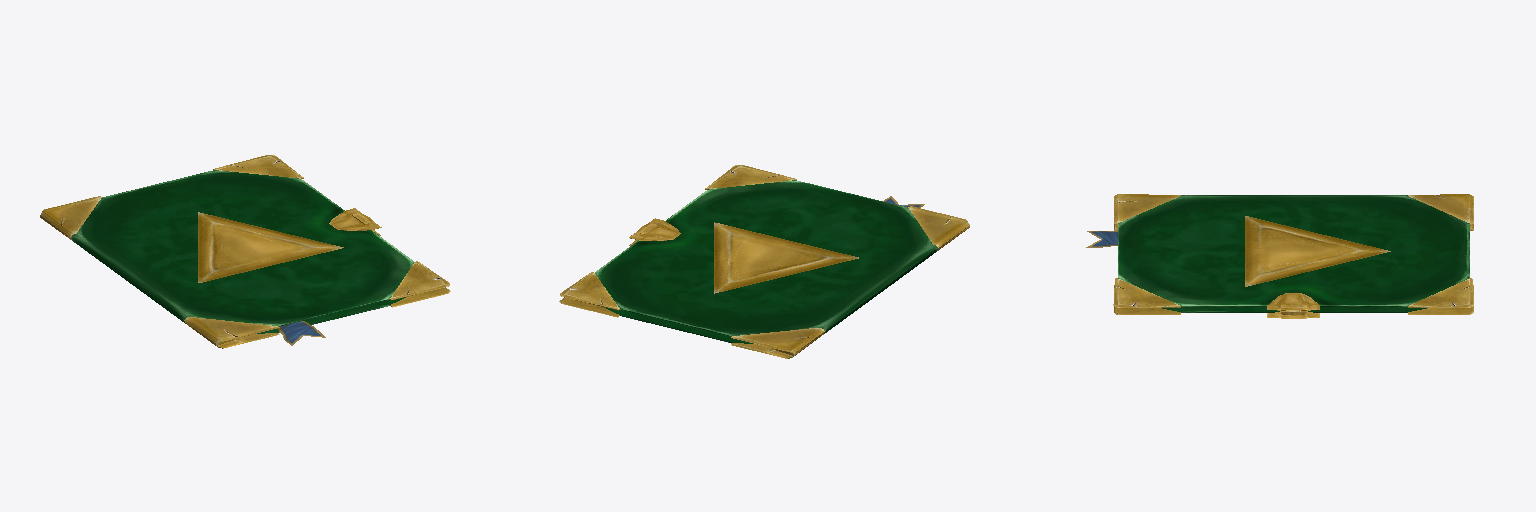
3 renders of one model, left to right at view 1: azimuth 30°, elevation 25°; view 2: azimuth 150°, elevation 25°; view 3: azimuth 270°, elevation 25°, orthographic.
Parts seen in each view (by area): view 1: magic-book-1_Cube.004; view 2: magic-book-1_Cube.004; view 3: magic-book-1_Cube.004.
Part boxes in pixels (left/top/right/bottom): magic-book-1_Cube.004: left=40, top=155, right=450, bottom=348; magic-book-1_Cube.004: left=559, top=165, right=969, bottom=358; magic-book-1_Cube.004: left=1086, top=194, right=1473, bottom=318.
Bounding box in the file's own units: 0.4292 × 0.0161 × 0.5964.
1 materials, 1 textured.